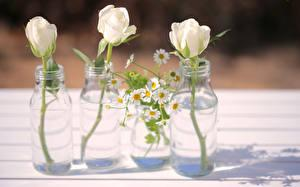chamomile: (155, 90, 171, 105), (169, 98, 183, 115), (131, 90, 145, 105), (144, 111, 162, 122), (114, 94, 126, 109), (141, 87, 151, 102), (106, 80, 124, 88), (158, 50, 168, 64), (148, 83, 162, 93), (125, 56, 135, 68), (126, 114, 137, 123)
